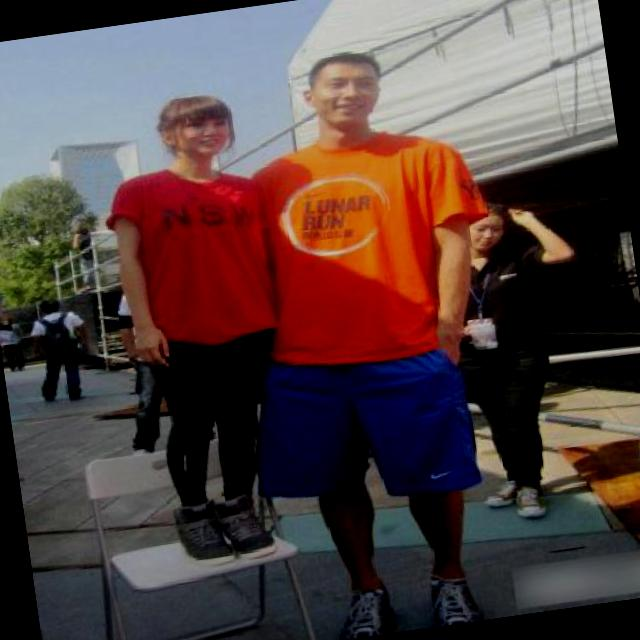Person: (236, 30, 519, 640), (90, 80, 350, 559)
